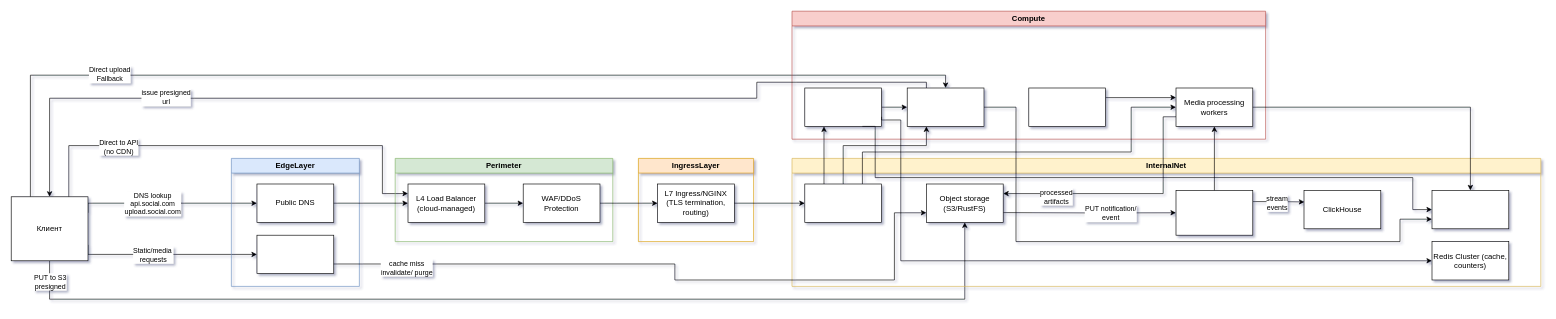
Image size: 1556x319. Some labels were removed from this diagram. Each missing label, with the centre of its shape:
"Application backend (Go services)" goes at (x=843, y=106).
"Background jobs / Workers" goes at (x=1067, y=106).
"CDN edge" goes at (x=295, y=254).
"Kafka (event bus)" goes at (x=1214, y=212).
"Postgres" goes at (x=1470, y=209).
"Service Mesh" goes at (x=843, y=202).
"Upload service (presign)" goes at (x=945, y=106).
